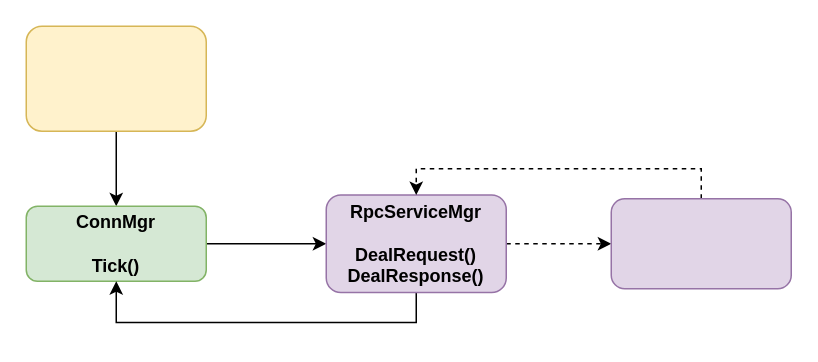
This 818x362 diagram has some shape labels left out. Here are the shapes that lost their labels. From the top down, the centre of each, then its label:
At (115,78): "RpcServer Run() Serve()".
At (700,243): "RpcServiceMgr Rpc()".
